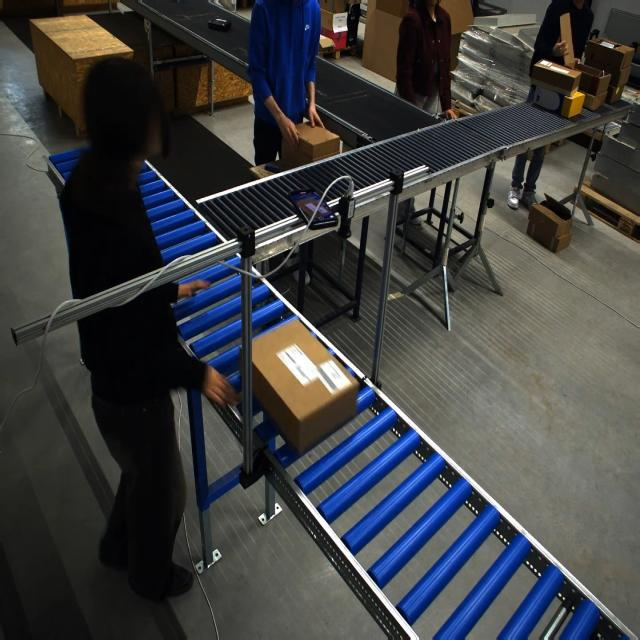box: (249, 318, 353, 452), (283, 122, 338, 169), (558, 13, 575, 68)
product: (207, 17, 231, 31)
